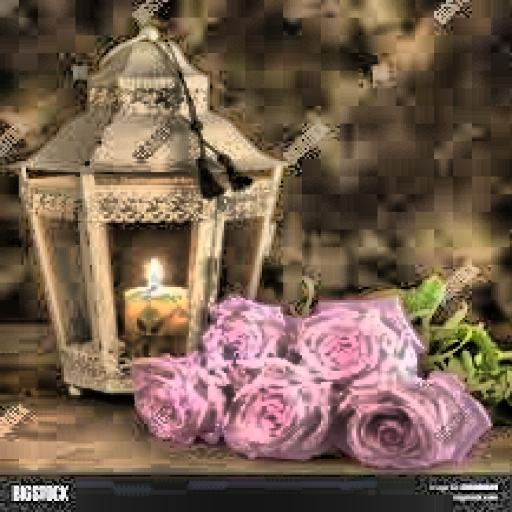fire: (130, 252, 170, 291)
